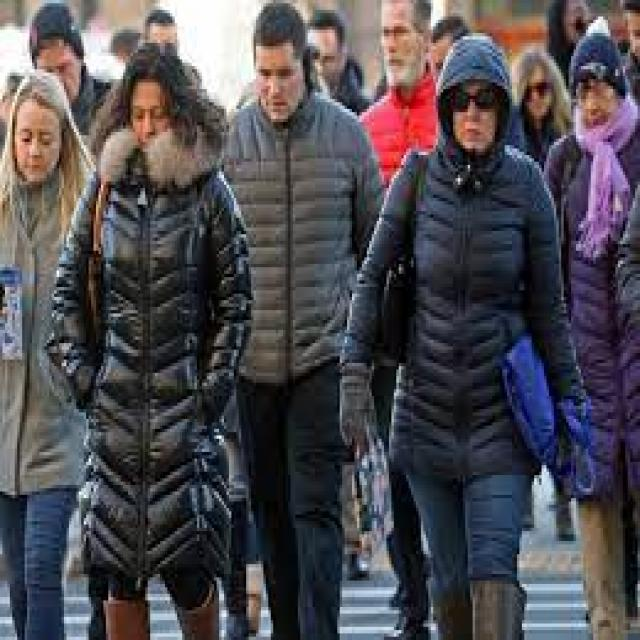Jacket: (358, 143, 584, 536), (57, 153, 256, 593), (215, 102, 384, 408), (548, 120, 640, 492), (0, 157, 96, 504)
